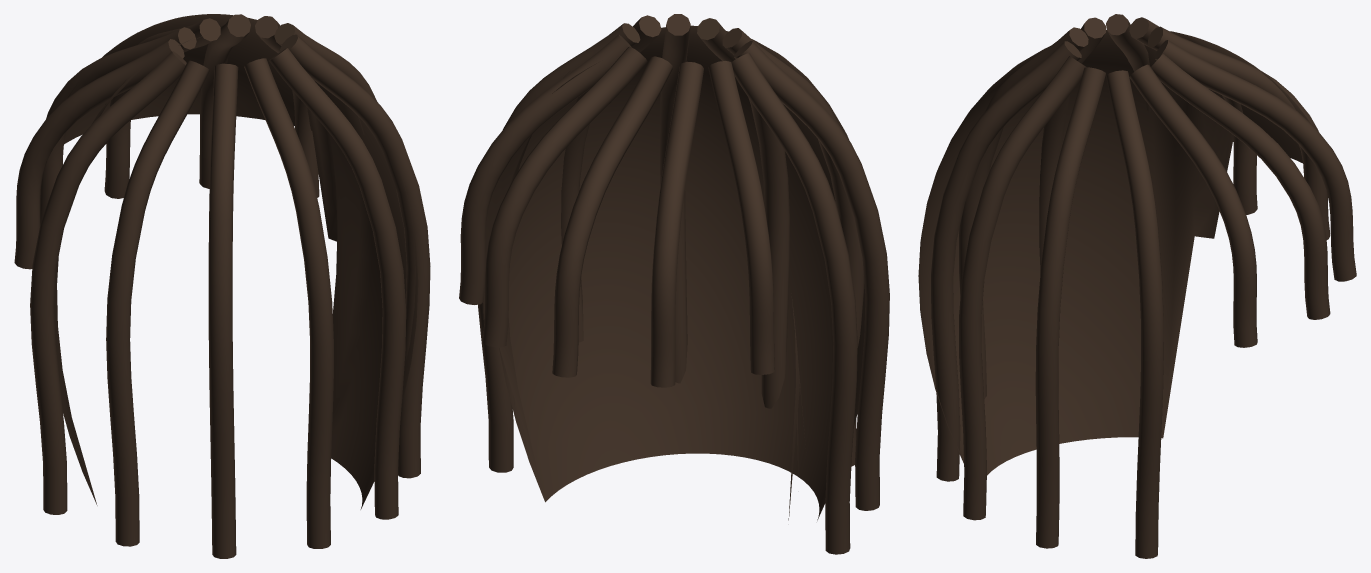
The model's file is hair_bob.glb.
3 views of the same model, side by side, from view 1: azimuth 30°, elevation 25°; view 2: azimuth 150°, elevation 25°; view 3: azimuth 270°, elevation 25° (orthographic). The views are drawn at different scales.
Parts seen in each view (by area): view 1: hair_bob_Original_flowing_hair; view 2: hair_bob_Original_flowing_hair; view 3: hair_bob_Original_flowing_hair.
Part boxes in pixels (<box>): hair_bob_Original_flowing_hair: <box>14,14,430,558</box>; hair_bob_Original_flowing_hair: <box>459,14,889,554</box>; hair_bob_Original_flowing_hair: <box>918,14,1356,558</box>.
Bounding box in the file's own units: 0.2818 × 0.3374 × 0.2975.
